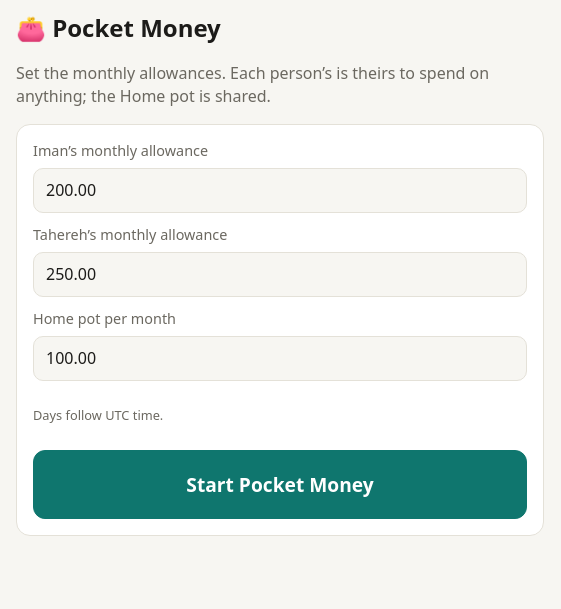
an already-set-up rejection shows an alert and re-enables the button
Click the button "Start Pocket Money": (280, 484) [33,450,527,519]
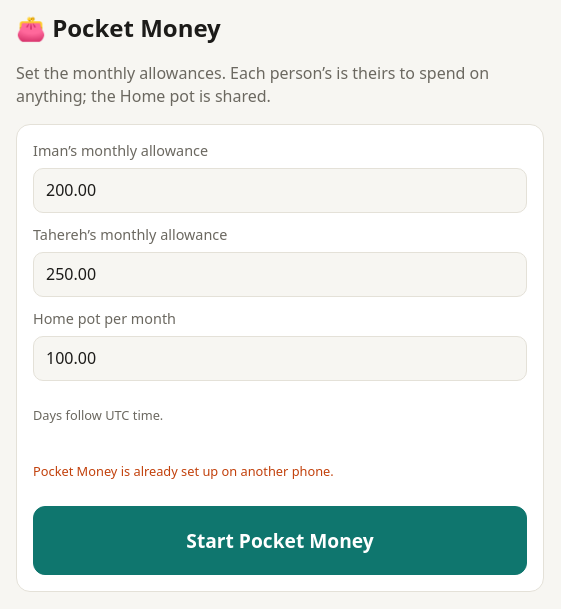
Expected: the button "Start Pocket Money" is enabled, [33,506,527,575]
Expected: the message reads "Pocket Money is already set up on another phone.", [33,462,334,480]
